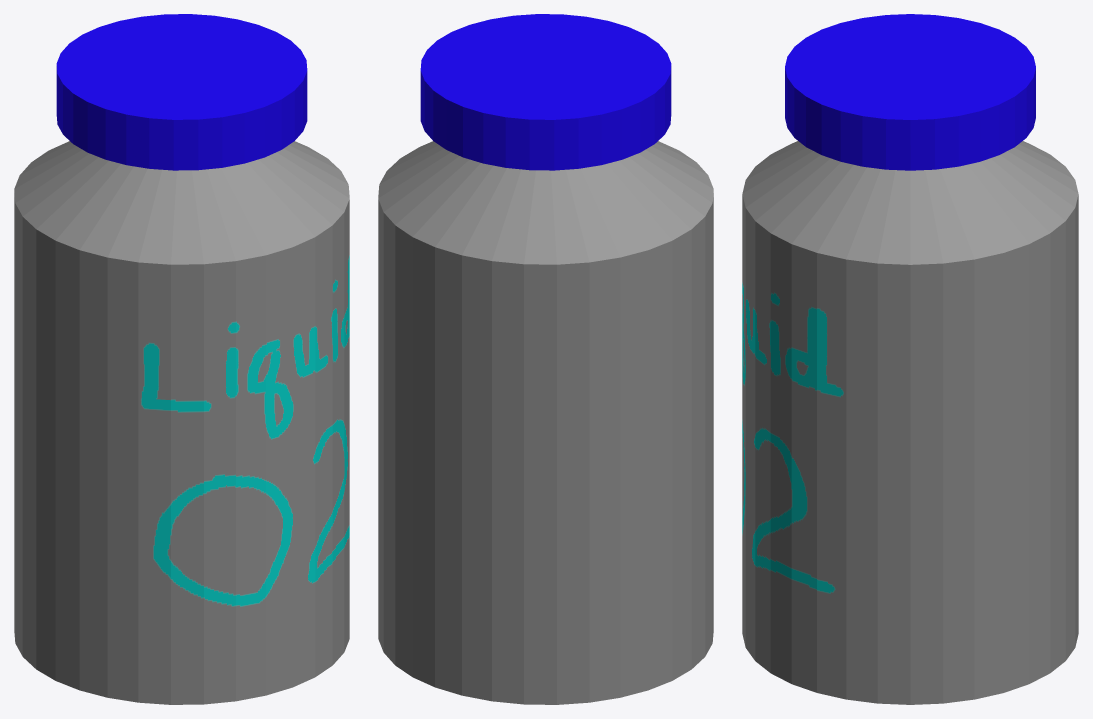
File: liquid_o2.gltf
The picture shows the model from 3 angles, left to right: view 1: azimuth 30°, elevation 25°; view 2: azimuth 150°, elevation 25°; view 3: azimuth 270°, elevation 25°; orthographic projection.
Visible parts, largest first — view 1: Cylinder; view 2: Cylinder; view 3: Cylinder.
Part boxes in pixels (x1,y1,x2,y2): Cylinder: (14,14,349,704); Cylinder: (378,14,713,704); Cylinder: (742,14,1078,704).
Size of the model in its own units: 0.6 by 1.12 by 0.6.
1 material, 1 textured.
